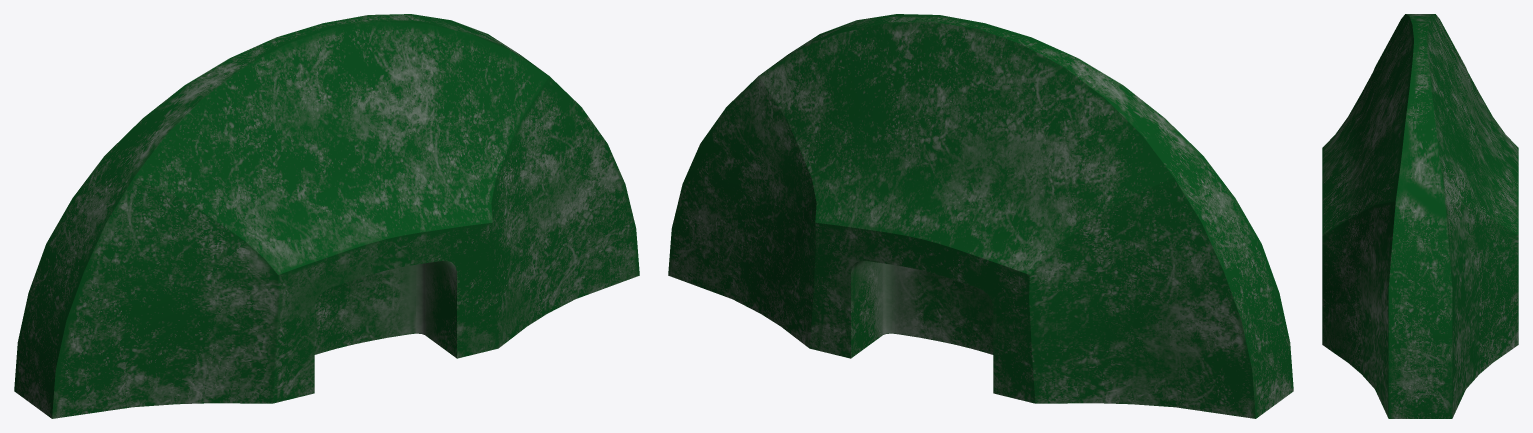
File: MuJu_BuGuiZe.fbx
3 views of the same model, side by side, from view 1: azimuth 30°, elevation 25°; view 2: azimuth 150°, elevation 25°; view 3: azimuth 270°, elevation 25° (orthographic). The views are drawn at different scales.
Parts seen in each view (by area): view 1: MuJu_BuGuiZe; view 2: MuJu_BuGuiZe; view 3: MuJu_BuGuiZe.
Boxes of the visible parts, x1,y1,x2,y2 form: MuJu_BuGuiZe: (14,14,639,418); MuJu_BuGuiZe: (668,14,1293,418); MuJu_BuGuiZe: (1322,14,1518,418).
Bounding box in the file's own units: 24 × 12 × 8.26.
Materials: 1 (1 with a texture image).
